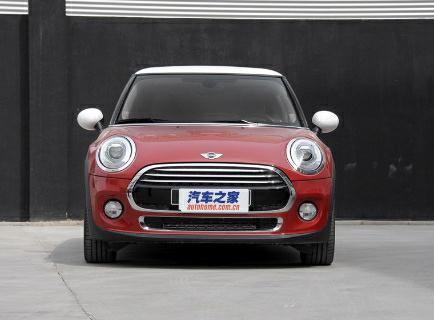MINI: (85, 72, 331, 262)
